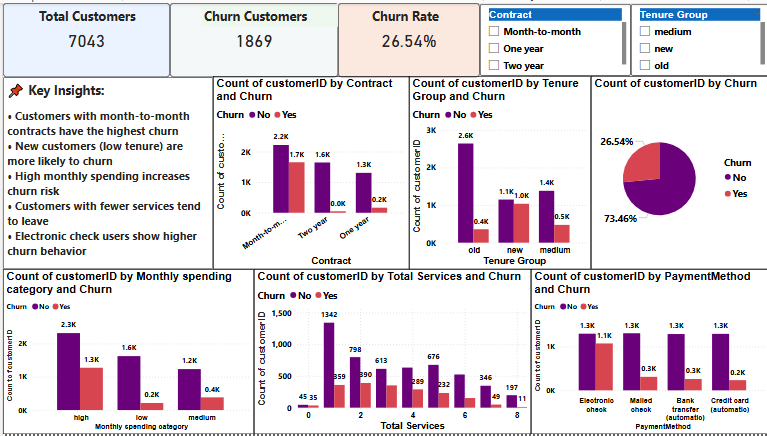

The dashboard page shown, as its layout file describes it:
{"tool":"powerbi","page":{"name":"Page 1","canvas":[1280,720],"ordinal":0},"visuals":[{"type":"card","fields":{"Values":["CountNonNull(CSV_WA_Fn-UseC_-Telco-Customer-Churn.customerID)"]},"box":[0,0,279.1,123.7],"z":0},{"type":"card","fields":{"Values":["CountNonNull(CSV_WA_Fn-UseC_-Telco-Customer-Churn.customerID)"]},"box":[279.1,0,280.7,123.7],"z":1000},{"type":"card","fields":{"Values":["CSV_WA_Fn-UseC_-Telco-Customer-Churn.Churn Rate"]},"box":[559.8,0,237.3,123.7],"z":1001},{"type":"textbox","box":[55.1,0,182.1,40.1],"z":1002},{"type":"textbox","box":[330.9,0,228.9,40.1],"z":1003},{"type":"textbox","box":[611.6,0,132,40.1],"z":1004},{"type":"pieChart","fields":{"Category":["CSV_WA_Fn-UseC_-Telco-Customer-Churn.Churn"],"Y":["CountNonNull(CSV_WA_Fn-UseC_-Telco-Customer-Churn.customerID)"]},"box":[982.6,122,298,330],"z":1005},{"type":"clusteredColumnChart","fields":{"Category":["CSV_WA_Fn-UseC_-Telco-Customer-Churn.Contract"],"Series":["CSV_WA_Fn-UseC_-Telco-Customer-Churn.Churn"],"Y":["CountNonNull(CSV_WA_Fn-UseC_-Telco-Customer-Churn.customerID)"]},"box":[350.9,122,327.5,322.5],"z":1006},{"type":"clusteredColumnChart","fields":{"Series":["CSV_WA_Fn-UseC_-Telco-Customer-Churn.Churn"],"Y":["CountNonNull(CSV_WA_Fn-UseC_-Telco-Customer-Churn.customerID)"],"Category":["CSV_WA_Fn-UseC_-Telco-Customer-Churn.Tenure Group"]},"box":[678.4,122,304.1,322.5],"z":1007},{"type":"clusteredColumnChart","fields":{"Series":["CSV_WA_Fn-UseC_-Telco-Customer-Churn.Churn"],"Y":["CountNonNull(CSV_WA_Fn-UseC_-Telco-Customer-Churn.customerID)"],"Category":["CSV_WA_Fn-UseC_-Telco-Customer-Churn.Monthly spending category"]},"box":[0,444.5,419.4,275.7],"z":1008},{"type":"clusteredColumnChart","fields":{"Series":["CSV_WA_Fn-UseC_-Telco-Customer-Churn.Churn"],"Y":["CountNonNull(CSV_WA_Fn-UseC_-Telco-Customer-Churn.customerID)"],"Category":["CSV_WA_Fn-UseC_-Telco-Customer-Churn.Total Services"]},"box":[419.4,444.5,462.9,275.7],"z":1009},{"type":"clusteredColumnChart","fields":{"Series":["CSV_WA_Fn-UseC_-Telco-Customer-Churn.Churn"],"Y":["CountNonNull(CSV_WA_Fn-UseC_-Telco-Customer-Churn.customerID)"],"Category":["CSV_WA_Fn-UseC_-Telco-Customer-Churn.PaymentMethod"]},"box":[882.3,444.5,397.7,275.7],"z":1010},{"type":"slicer","fields":{"Values":["CSV_WA_Fn-UseC_-Telco-Customer-Churn.Contract"]},"box":[797.1,1.7,252.3,120.3],"z":1011},{"type":"slicer","fields":{"Values":["CSV_WA_Fn-UseC_-Telco-Customer-Churn.Tenure Group"]},"box":[1049.4,1.7,230.6,120.3],"z":1012},{"type":"textbox","box":[0,123.7,350.9,320.8],"z":1013}]}

Visuals, with their boxes in screenshot pixels (x1, y1, x2, y2), scaled from the page's 1280x720 canvas onto the 767x436 screenshot:
card - CountNonNull(CSV_WA_Fn-UseC_-Telco-Customer-Churn.customerID): <region>0, 0, 167, 75</region>
card - CountNonNull(CSV_WA_Fn-UseC_-Telco-Customer-Churn.customerID): <region>167, 0, 335, 75</region>
card - CSV_WA_Fn-UseC_-Telco-Customer-Churn.Churn Rate: <region>335, 0, 478, 75</region>
textbox: <region>33, 0, 142, 24</region>
textbox: <region>198, 0, 335, 24</region>
textbox: <region>366, 0, 446, 24</region>
pieChart - CSV_WA_Fn-UseC_-Telco-Customer-Churn.Churn x CountNonNull(CSV_WA_Fn-UseC_-Telco-Customer-Churn.customerID): <region>589, 74, 766, 274</region>
clusteredColumnChart - CSV_WA_Fn-UseC_-Telco-Customer-Churn.Contract x CSV_WA_Fn-UseC_-Telco-Customer-Churn.Churn: <region>210, 74, 407, 269</region>
clusteredColumnChart - CSV_WA_Fn-UseC_-Telco-Customer-Churn.Churn x CountNonNull(CSV_WA_Fn-UseC_-Telco-Customer-Churn.customerID): <region>407, 74, 589, 269</region>
clusteredColumnChart - CSV_WA_Fn-UseC_-Telco-Customer-Churn.Churn x CountNonNull(CSV_WA_Fn-UseC_-Telco-Customer-Churn.customerID): <region>0, 269, 251, 435</region>
clusteredColumnChart - CSV_WA_Fn-UseC_-Telco-Customer-Churn.Churn x CountNonNull(CSV_WA_Fn-UseC_-Telco-Customer-Churn.customerID): <region>251, 269, 529, 435</region>
clusteredColumnChart - CSV_WA_Fn-UseC_-Telco-Customer-Churn.Churn x CountNonNull(CSV_WA_Fn-UseC_-Telco-Customer-Churn.customerID): <region>529, 269, 766, 435</region>
slicer - CSV_WA_Fn-UseC_-Telco-Customer-Churn.Contract: <region>478, 1, 629, 74</region>
slicer - CSV_WA_Fn-UseC_-Telco-Customer-Churn.Tenure Group: <region>629, 1, 766, 74</region>
textbox: <region>0, 75, 210, 269</region>
